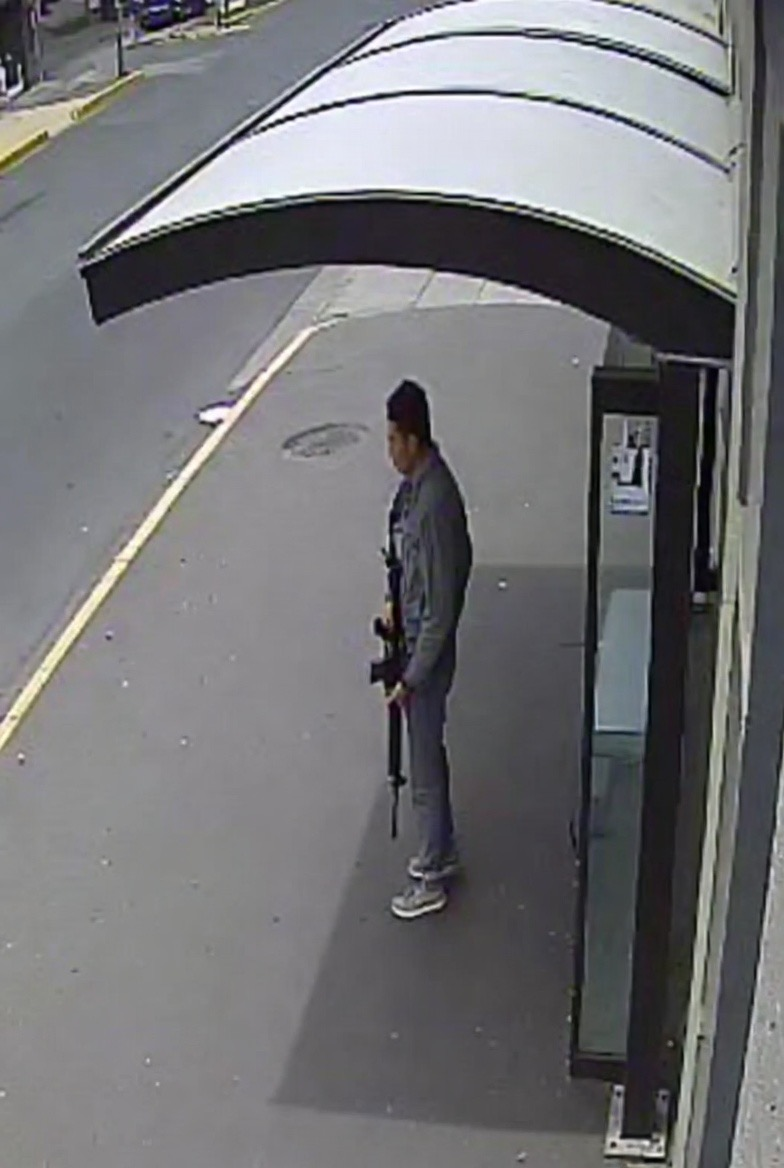person: (371, 379, 474, 923)
weapon: (370, 532, 423, 841)
